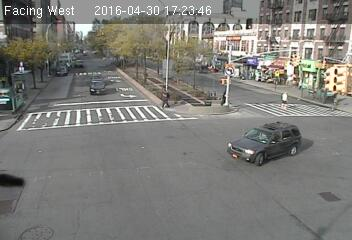neg: (143, 117, 161, 142), (141, 46, 159, 71), (80, 59, 98, 83), (260, 124, 278, 148), (220, 144, 237, 166), (30, 146, 46, 168), (62, 84, 77, 105)
pos: (157, 85, 174, 108), (278, 88, 293, 109)
